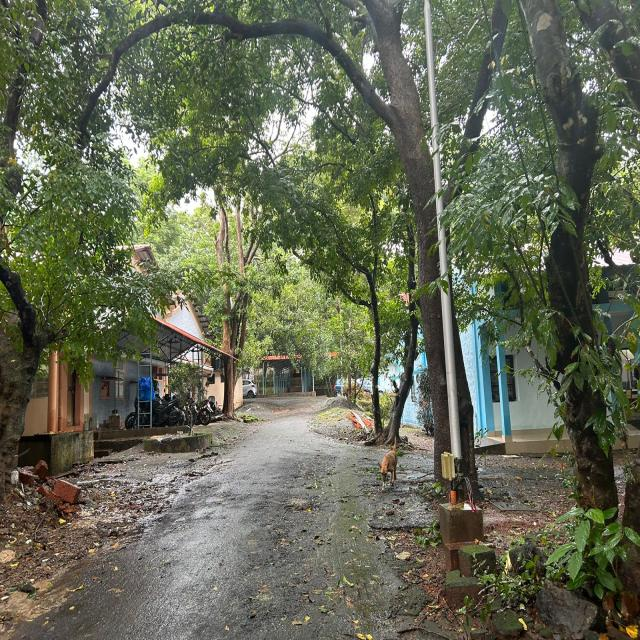electric pole ahead at: (416, 0, 476, 528)
